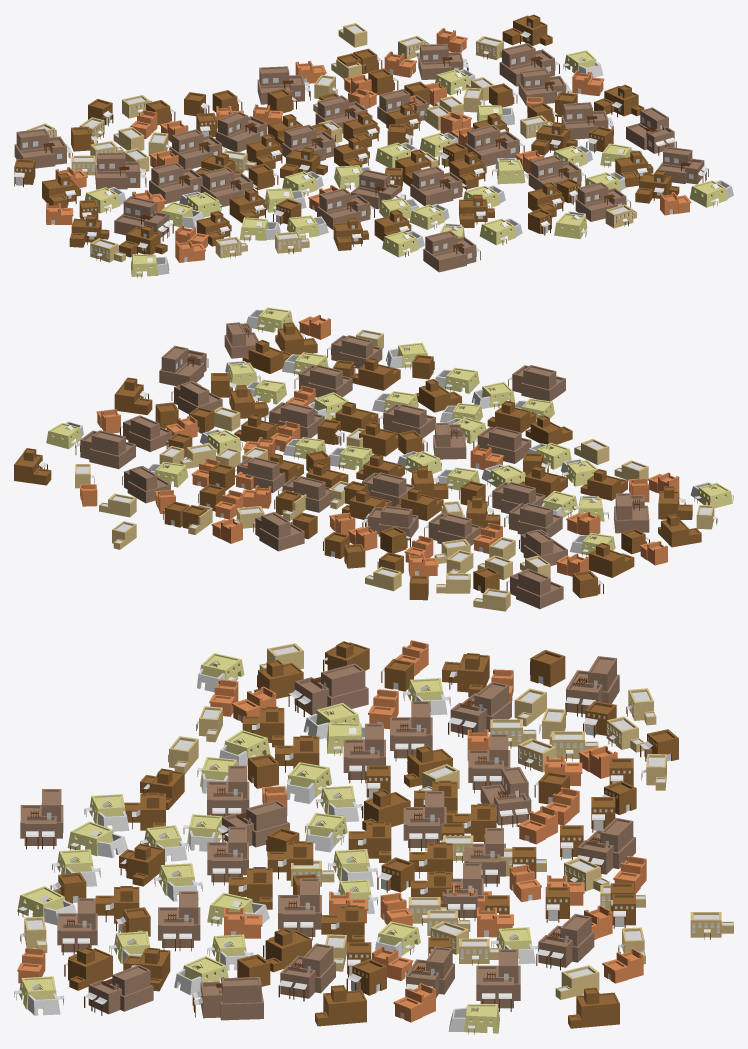
File: casas2.fbx
3 renders of one model, top to bottom at view 1: azimuth 30°, elevation 25°; view 2: azimuth 150°, elevation 25°; view 3: azimuth 270°, elevation 25°, orthographic. The views are drawn at different scales.
Parts seen in each view (by area): view 1: Cube.095, Cube.115, Cube.070, Cube.155, Cube.120, Cube.065, Cube.110, Cube.130, Cube.135, Cube.145, Cube.100, Cube.125 (+99 smaller); view 2: Cube.145, Cube.115, Cube.065, Cube.095, Cube.090, Cube.110, Cube.135, Cube.070, Cube.160, Cube.130, Cube.125, Cube.085 (+98 smaller); view 3: Cube.130, Cube.065, Cube.001, Cube.055, Cube.120, Cube.080, Cube.115, Cube.145, Cube.090, Cube.100, Cube.095, Cube.160 (+117 smaller).
Part boxes in pixels (bbox=[...]): Cube.095: bbox=[423, 230, 480, 272]; Cube.115: bbox=[14, 128, 72, 168]; Cube.070: bbox=[410, 166, 466, 205]; Cube.155: bbox=[465, 124, 524, 166]; Cube.120: bbox=[95, 152, 146, 189]; Cube.065: bbox=[626, 107, 676, 155]; Cube.110: bbox=[149, 162, 202, 204]; Cube.130: bbox=[114, 196, 173, 241]; Cube.135: bbox=[317, 188, 374, 229]; Cube.145: bbox=[499, 43, 559, 86]; Cube.100: bbox=[215, 111, 267, 152]; Cube.125: bbox=[169, 129, 226, 169]; Cube.145: bbox=[75, 430, 135, 469]; Cube.115: bbox=[506, 568, 563, 608]; Cube.065: bbox=[159, 345, 208, 385]; Cube.095: bbox=[508, 365, 565, 401]; Cube.090: bbox=[253, 512, 304, 551]; Cube.110: bbox=[504, 503, 562, 537]; Cube.135: bbox=[473, 426, 531, 463]; Cube.070: bbox=[378, 404, 435, 438]; Cube.160: bbox=[294, 364, 352, 397]; Cube.130: bbox=[614, 493, 649, 533]; Cube.125: bbox=[424, 513, 481, 545]; Cube.085: bbox=[120, 415, 171, 451]; Cube.130: bbox=[288, 663, 368, 716]; Cube.065: bbox=[192, 977, 263, 1020]; Cube.001: bbox=[84, 965, 153, 1015]; Cube.055: bbox=[278, 943, 335, 1001]; Cube.120: bbox=[448, 681, 511, 737]; Cube.080: bbox=[536, 914, 594, 970]; Cube.115: bbox=[565, 656, 619, 717]; Cube.145: bbox=[476, 949, 520, 1011]; Cube.090: bbox=[577, 818, 635, 876]; Cube.100: bbox=[480, 767, 531, 827]; Cube.095: bbox=[20, 789, 63, 849]; Cube.160: bbox=[158, 891, 200, 951].
Bounding box in the file's own units: 50535 × 2128 × 40730.
